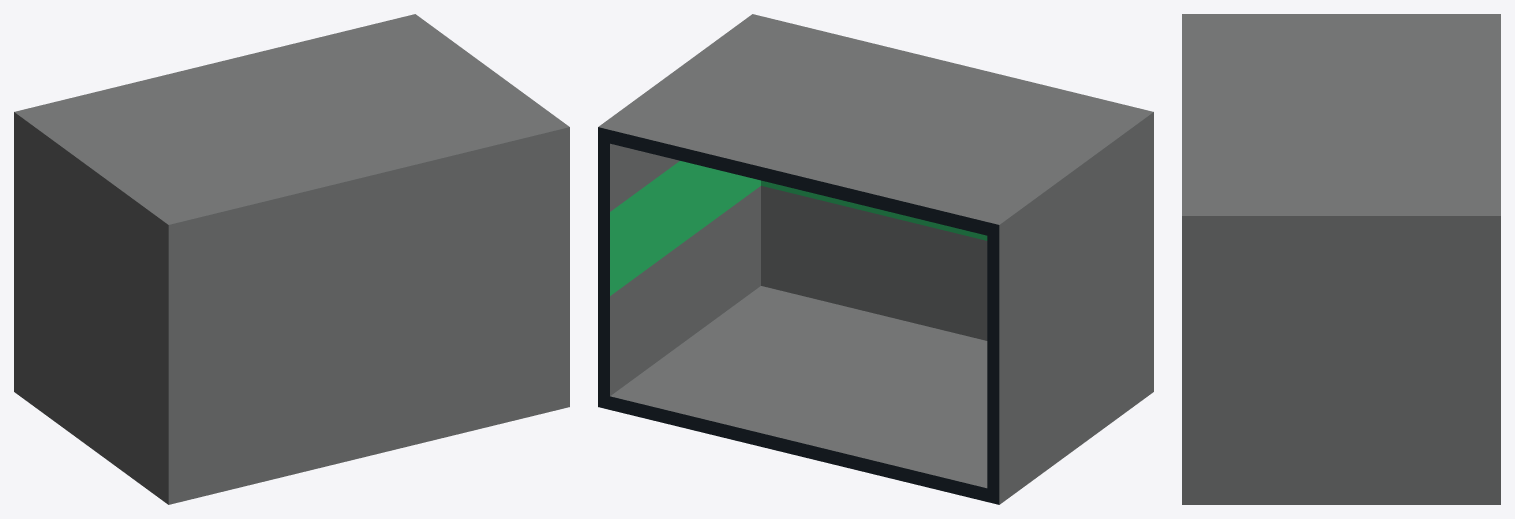
The model's file is Room_tiny_001.fbx.
3 renders of one model, left to right at view 1: azimuth 30°, elevation 25°; view 2: azimuth 150°, elevation 25°; view 3: azimuth 270°, elevation 25°, orthographic. The views are drawn at different scales.
Parts seen in each view (by area): view 1: Room_Tiny_001.001; view 2: Room_Tiny_001.001; view 3: Room_Tiny_001.001.
Boxes of the visible parts, left/top/right/bottom form: Room_Tiny_001.001: left=14, top=14, right=569, bottom=504; Room_Tiny_001.001: left=598, top=14, right=1153, bottom=504; Room_Tiny_001.001: left=1182, top=14, right=1500, bottom=504.
Size of the model in its own units: 600 by 400 by 400.
